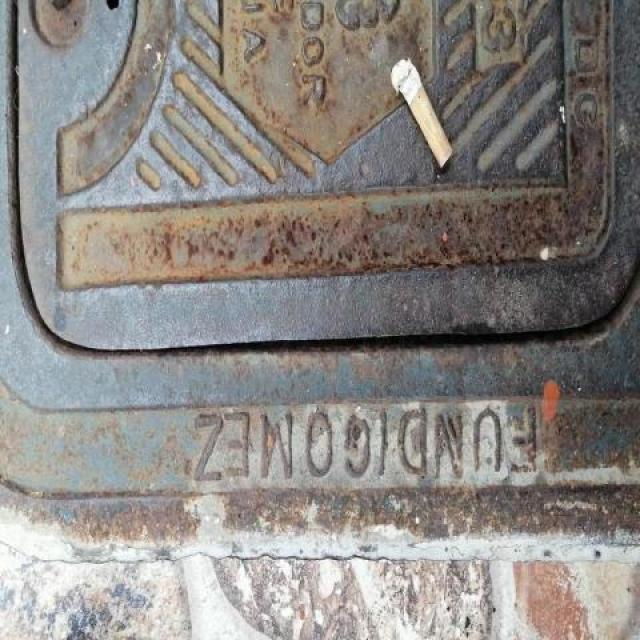non-organic waste: (388, 53, 456, 170)
